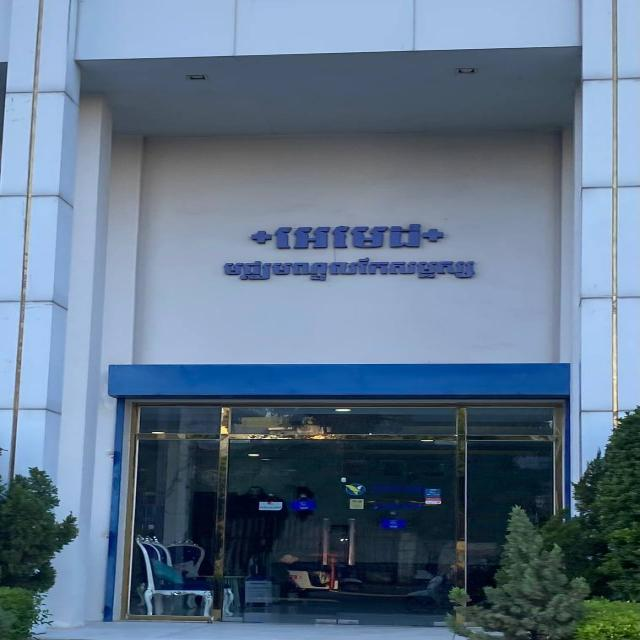2: (238, 218, 458, 254)
Yolov11_80vkh: (216, 254, 487, 292)
